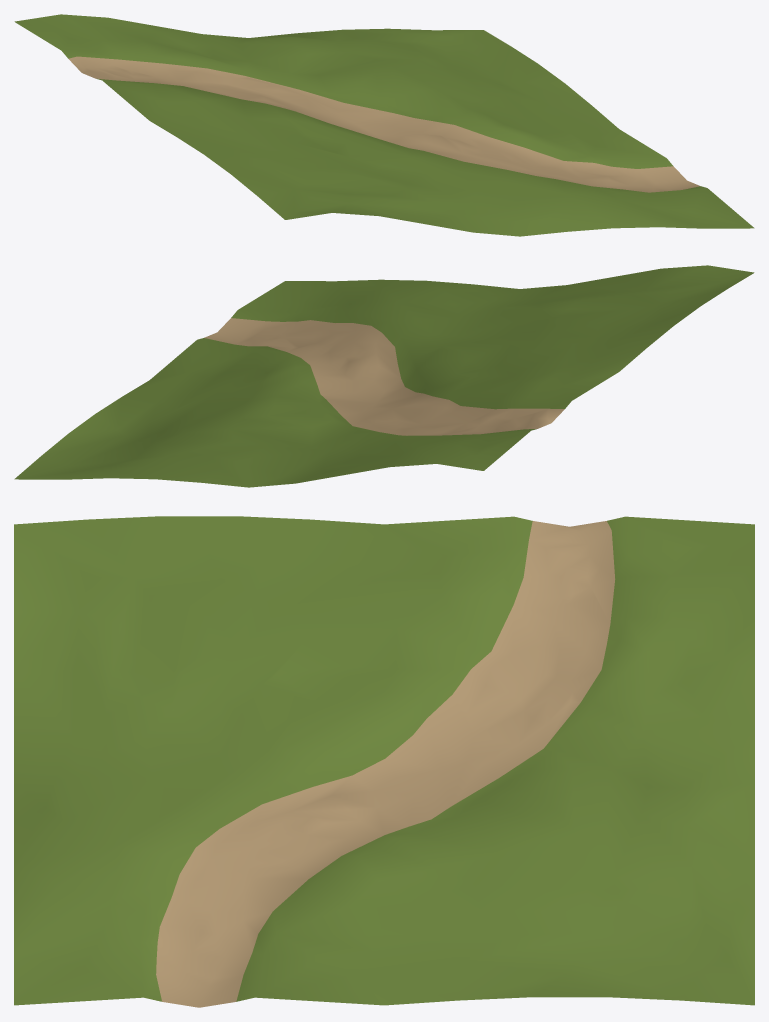
File: rpgpp_ag_terrain_path_07_20x20m_slope_3-2m.fbx
The picture shows the model from 3 angles, top to bottom: view 1: azimuth 30°, elevation 25°; view 2: azimuth 150°, elevation 25°; view 3: azimuth 270°, elevation 25°; orthographic projection. The views are drawn at different scales.
Parts seen in each view (by area): view 1: rpgpp_ag_terrain_path_07_20x20m_slope_3-2m; view 2: rpgpp_ag_terrain_path_07_20x20m_slope_3-2m; view 3: rpgpp_ag_terrain_path_07_20x20m_slope_3-2m.
Boxes of the visible parts, <box> form: rpgpp_ag_terrain_path_07_20x20m_slope_3-2m: <box>14,14,754,236</box>; rpgpp_ag_terrain_path_07_20x20m_slope_3-2m: <box>14,265,754,487</box>; rpgpp_ag_terrain_path_07_20x20m_slope_3-2m: <box>14,516,754,1007</box>.
Bounding box in the file's own units: 20 × 5.32 × 20.
